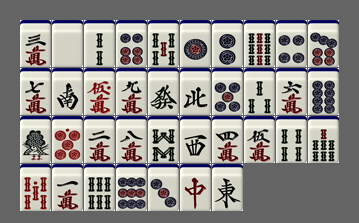0m: (84, 68, 115, 115)
0p: (52, 116, 83, 163)
0s: (20, 164, 51, 211)
1m: (52, 164, 83, 211)
1p: (180, 20, 211, 67)
1s: (20, 116, 51, 163)
1z: (212, 164, 243, 211)
2m: (84, 116, 115, 163)
2p: (212, 20, 243, 67)
2s: (84, 20, 115, 67)
2z: (52, 68, 83, 115)
3m: (20, 20, 51, 67)
3p: (148, 164, 179, 211)
3s: (244, 68, 275, 115)
3z: (180, 116, 211, 163)
4m: (212, 116, 243, 163)
4p: (276, 20, 307, 67)
4s: (276, 116, 307, 163)
4z: (180, 68, 211, 115)
5m: (244, 116, 275, 163)
5p: (212, 68, 243, 115)
5s: (148, 20, 179, 67)
5z: (52, 20, 83, 67)
6m: (276, 68, 307, 115)
6p: (116, 20, 147, 67)
6s: (84, 164, 115, 211)
6z: (148, 68, 179, 115)
7m: (20, 68, 51, 115)
7p: (308, 20, 339, 67)
7s: (308, 116, 339, 163)
7z: (180, 164, 211, 211)
8m: (116, 116, 147, 163)
8p: (308, 68, 339, 115)
8s: (148, 116, 179, 163)
9m: (116, 68, 147, 115)
9p: (116, 164, 147, 211)
9s: (244, 20, 275, 67)
